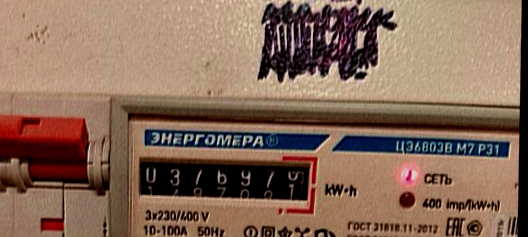0: (146, 164, 160, 185)
1: (288, 182, 299, 200)
3: (170, 167, 184, 187)
6: (217, 165, 231, 186)
7: (193, 165, 207, 186), (265, 168, 278, 190)
9: (241, 167, 254, 188)
screen: (133, 149, 324, 216)
